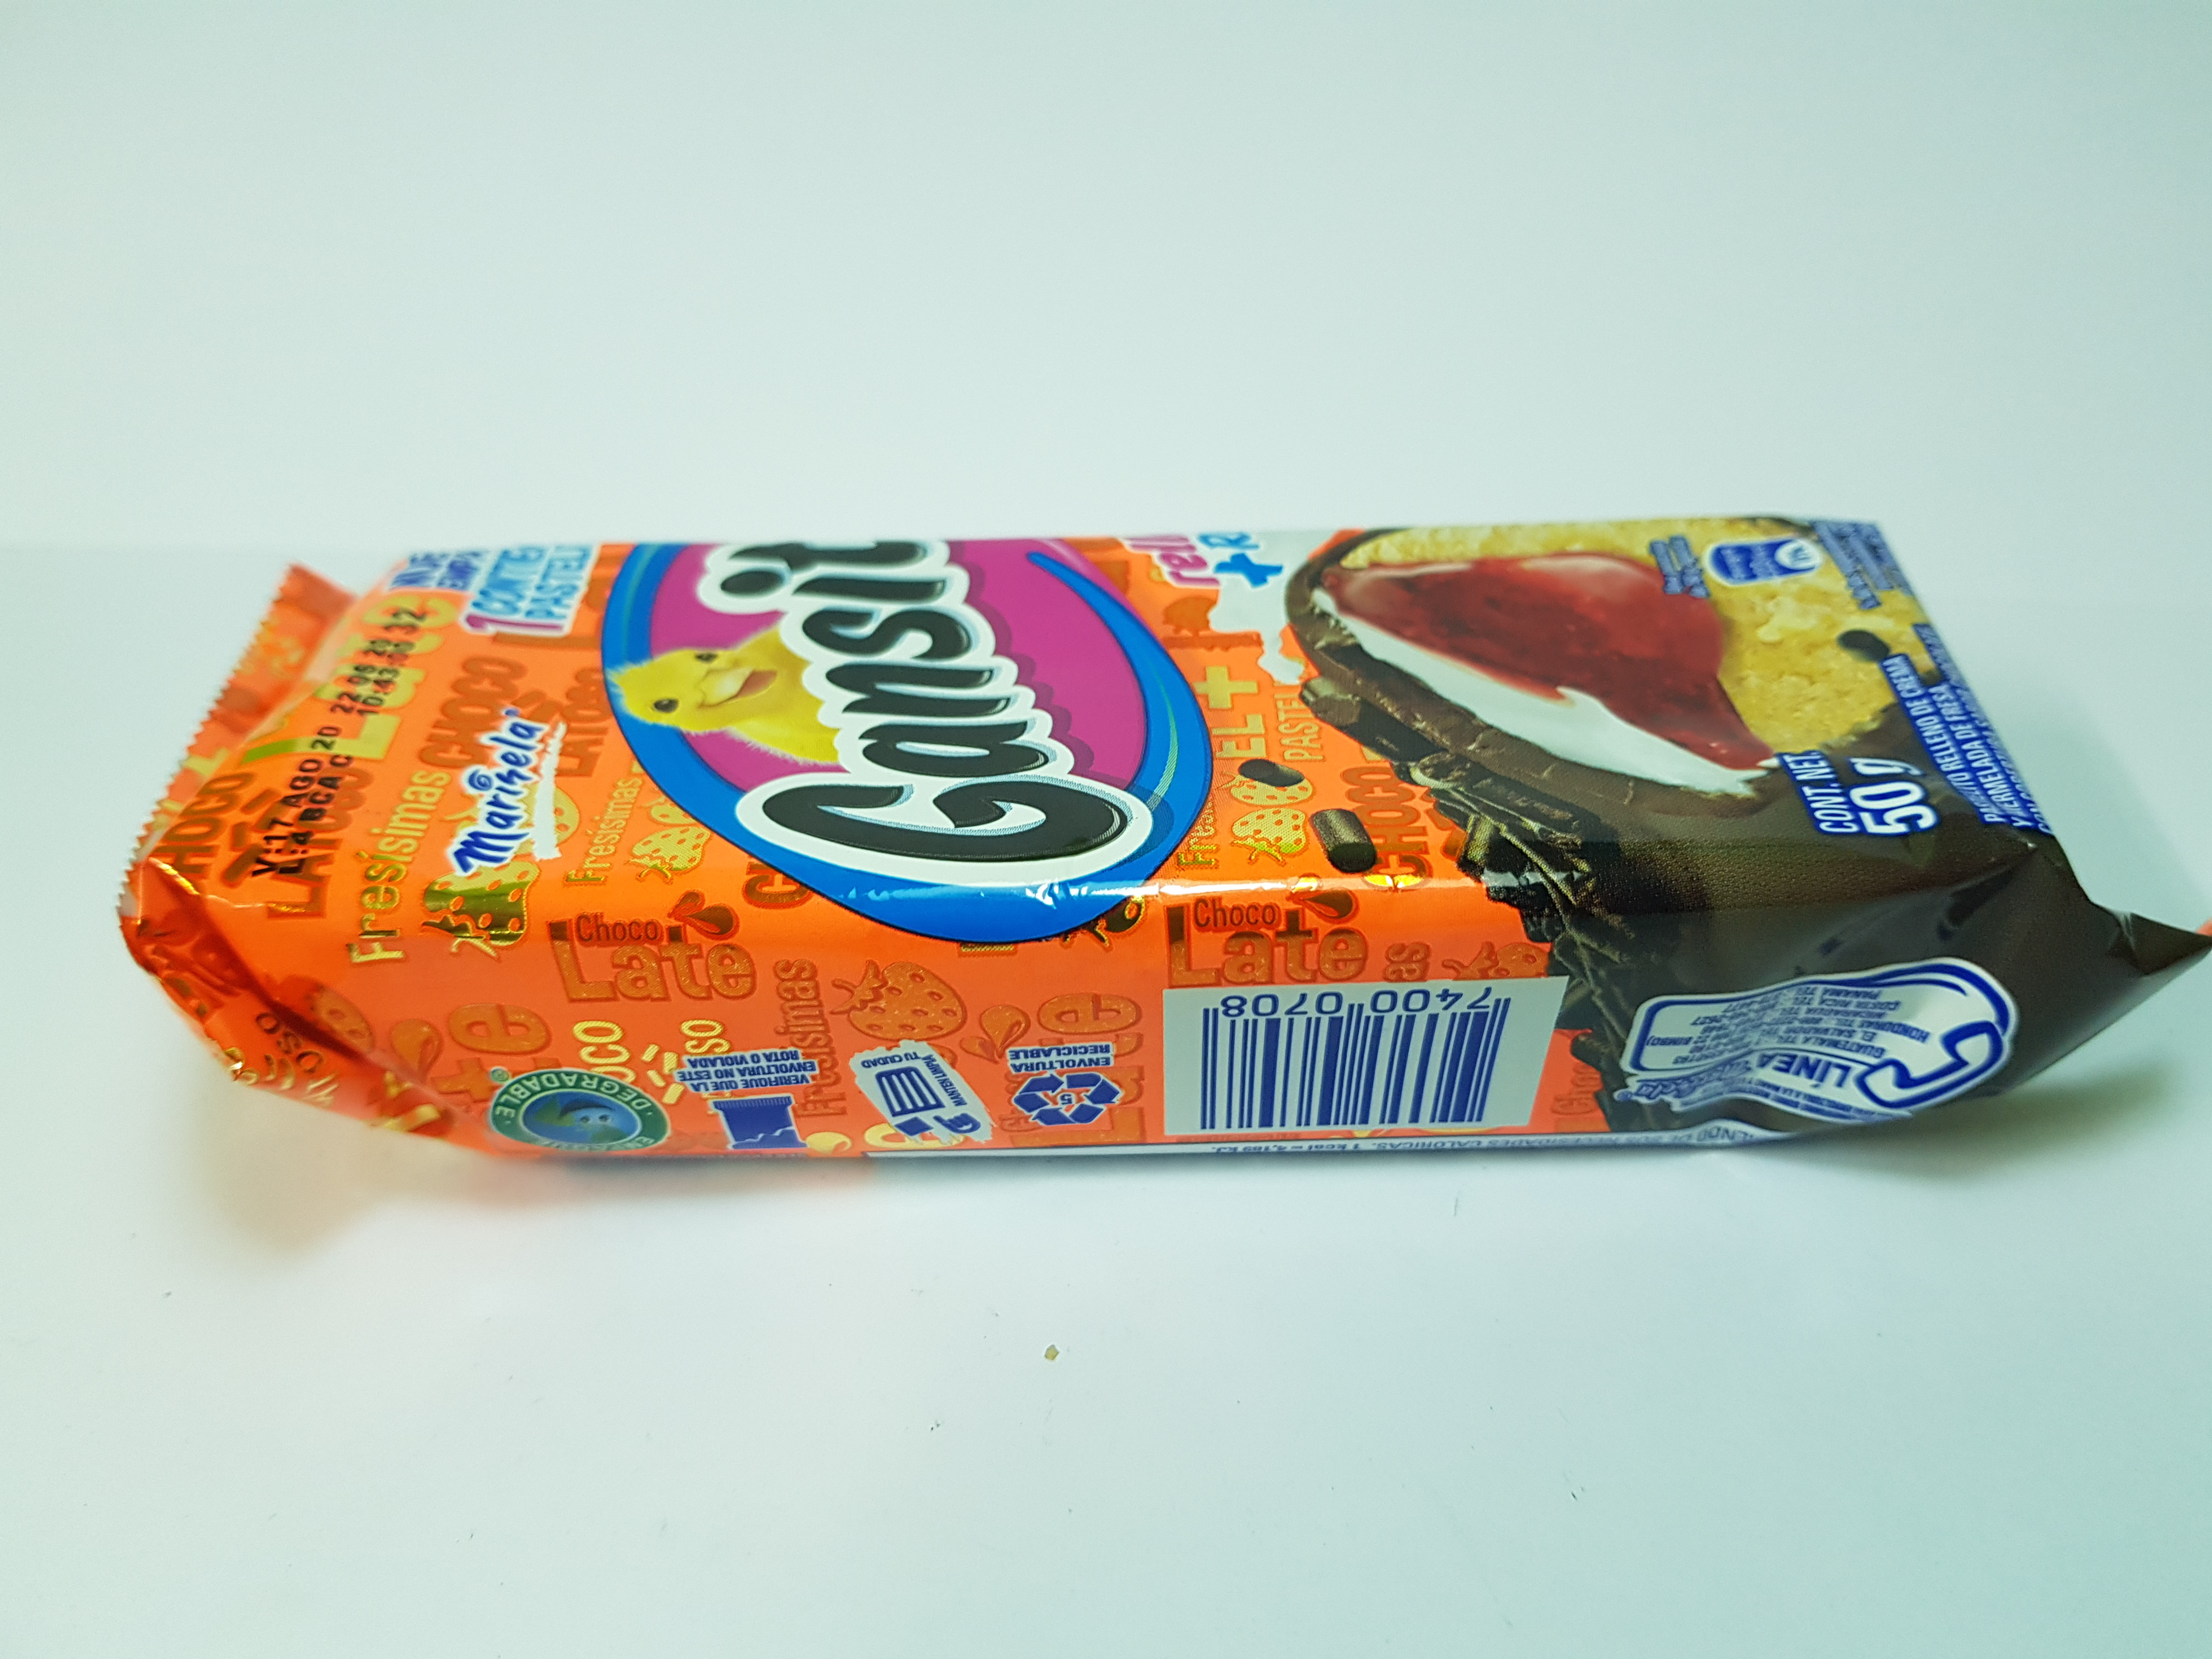gansito: (105, 511, 2212, 1168)
